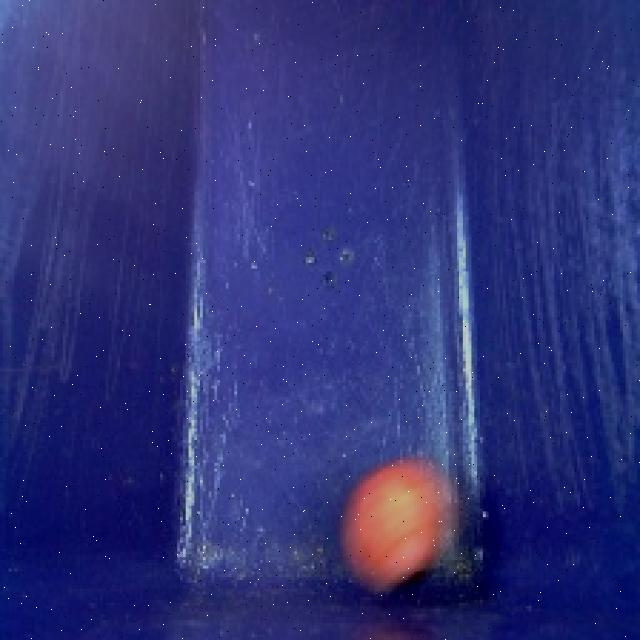carrots: (335, 446, 468, 606)
